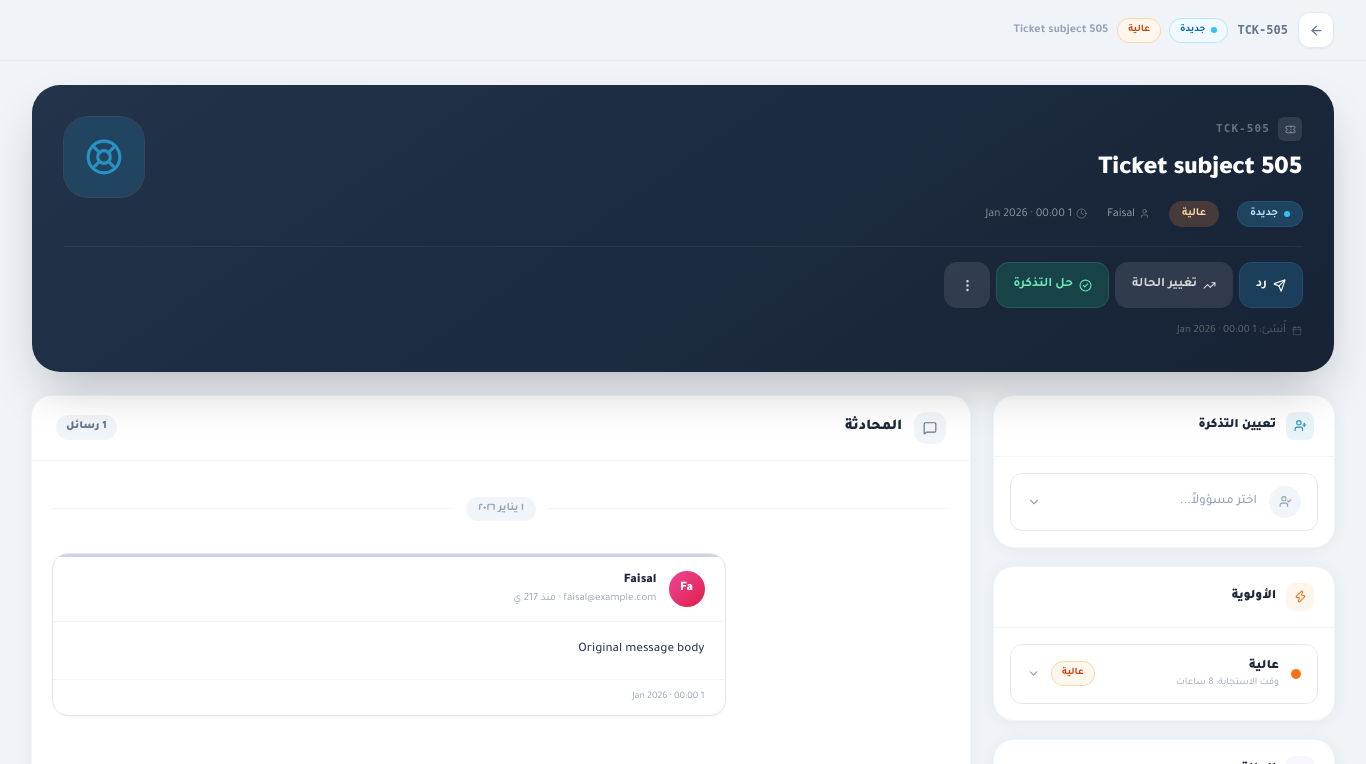
Test: OpsSupportTicketDetailPage — sticky header and action layout › shows primary actions (رد / تغيير الحالة / حل التذكرة) directly, and keeps secondary actions inside the More menu until opened
Expected: the heading "Ticket subject 505" is shown, 1098,156 -> 1302,182
Expected: the button "رد" is shown, 1240,263 -> 1302,307
Click the button named "المزيد من الإجراءات" at (967, 285), box 945,263 -> 989,307
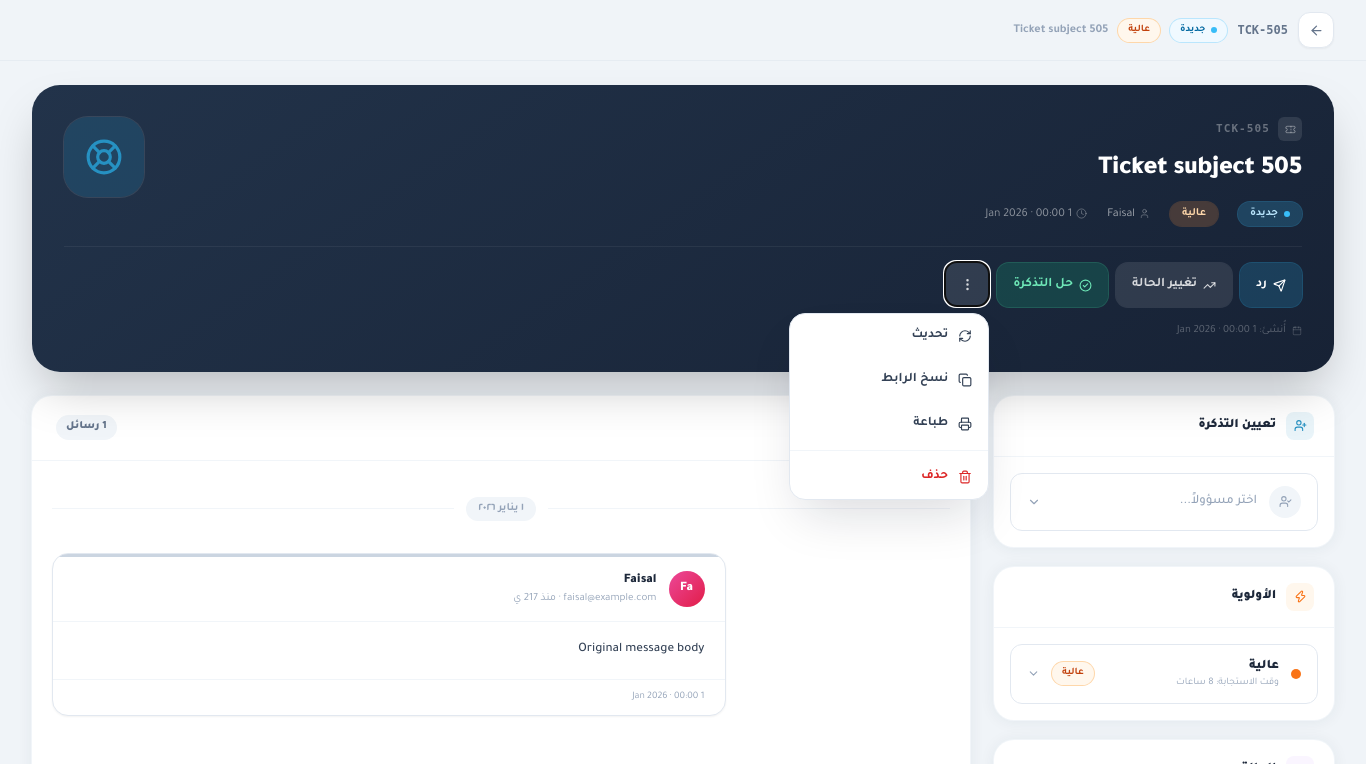
Result: the button "نسخ الرابط" is shown at 790,358 -> 988,402
Result: the button "طباعة" is shown at 790,402 -> 988,446
Result: the button "حذف" is shown at 790,455 -> 988,499
